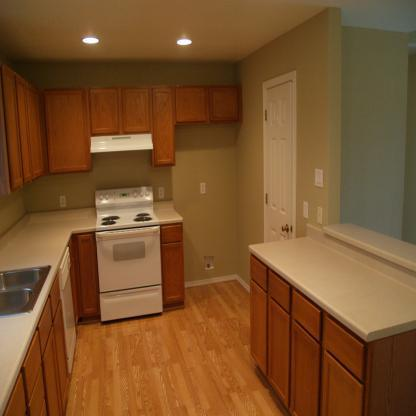door: (262, 82, 295, 244)
hinged: (264, 110, 268, 122), (266, 194, 269, 204)
knob: (280, 224, 288, 233)
